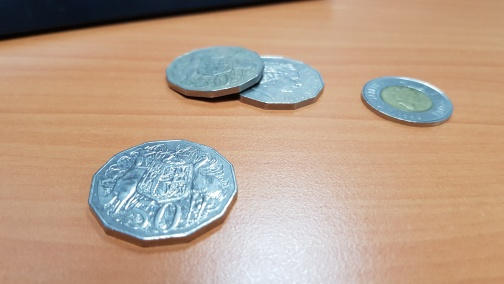coin: (87, 139, 238, 246), (165, 46, 265, 100), (361, 75, 454, 128), (236, 56, 325, 111)
